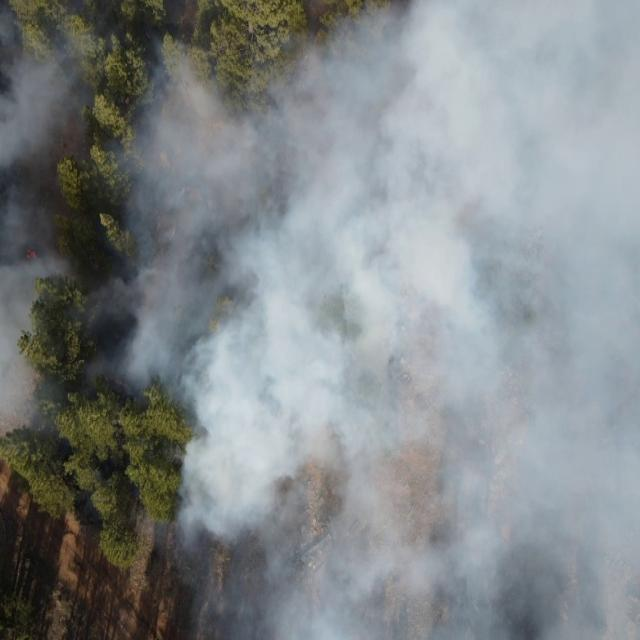smoke: (348, 0, 640, 640), (130, 48, 348, 416), (179, 422, 349, 640), (0, 11, 93, 285), (0, 289, 42, 466)
